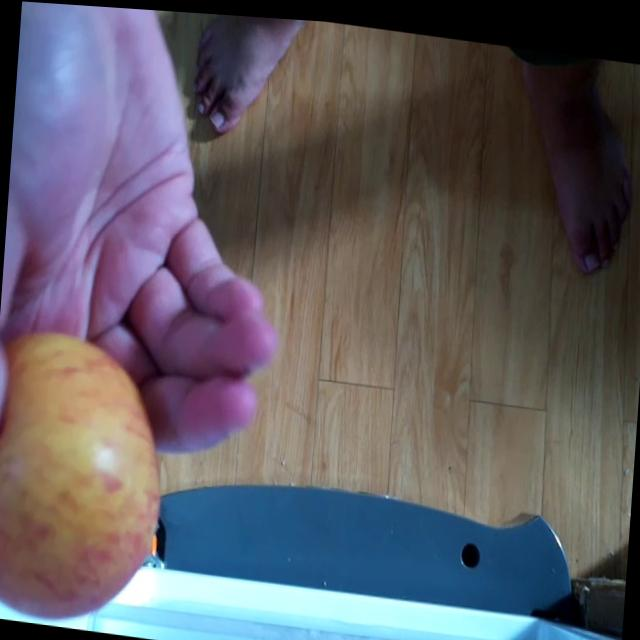apple: (0, 323, 168, 636)
